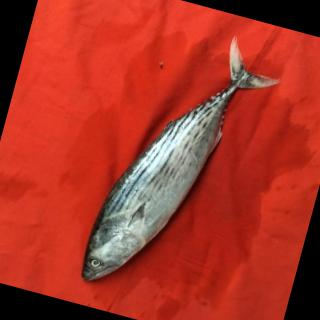Ikan: (79, 17, 276, 320)
